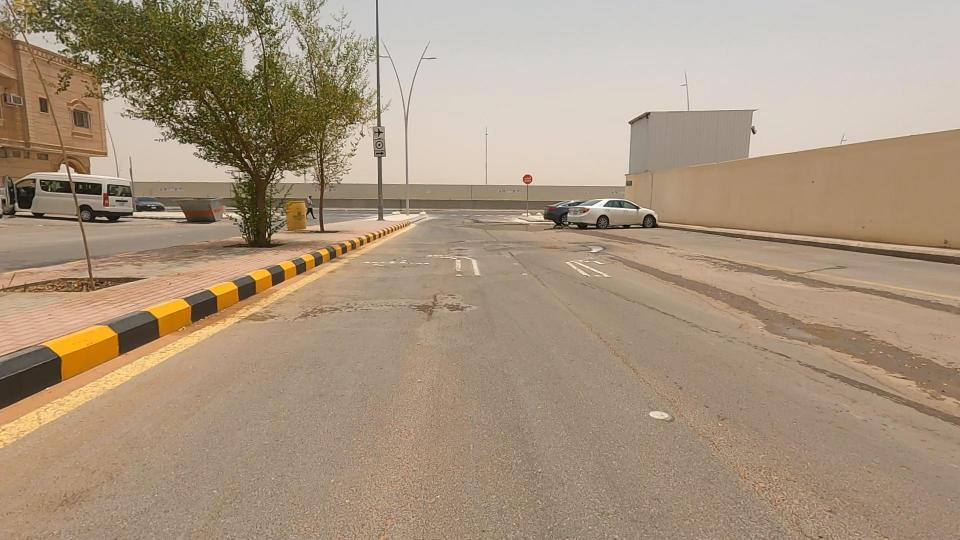GARBAGE: (398, 189, 446, 240)
POTHOLES: (693, 267, 872, 380), (803, 297, 960, 410), (369, 262, 508, 349), (549, 220, 627, 286)
